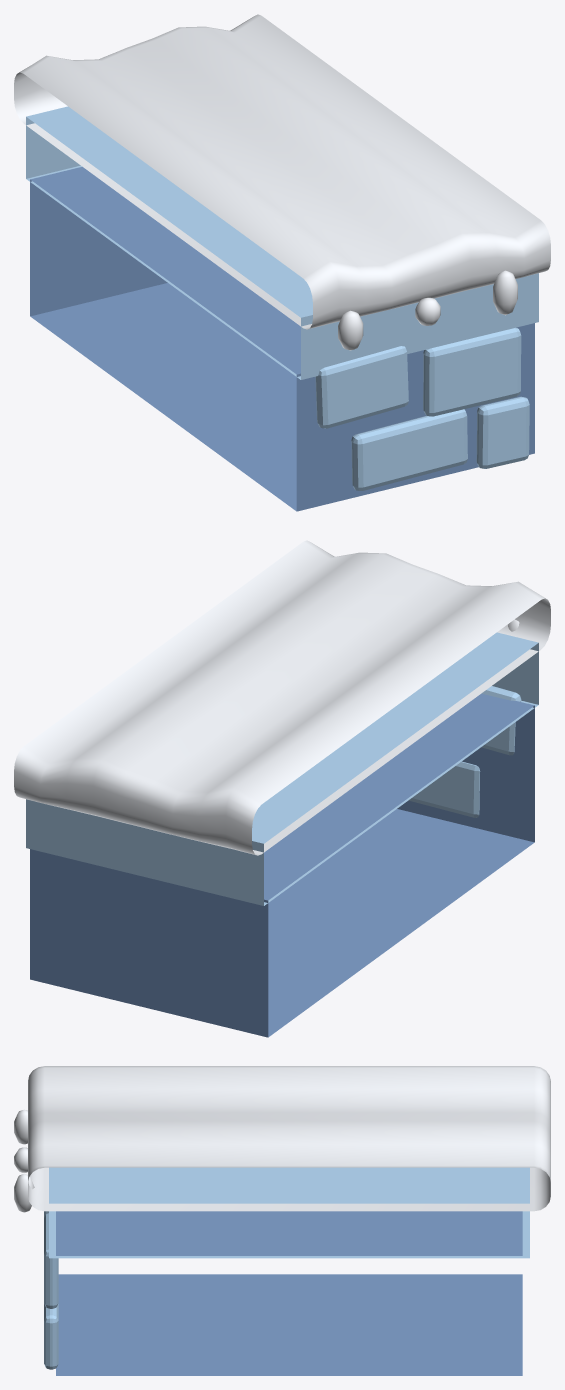
Rendered from plat_mid.glb.
3 renders of one model, top to bottom at view 1: azimuth 30°, elevation 25°; view 2: azimuth 150°, elevation 25°; view 3: azimuth 270°, elevation 25°, orthographic. The views are drawn at different scales.
Visible parts, largest first — view 1: plat_mid_mesh; view 2: plat_mid_mesh; view 3: plat_mid_mesh.
Part boxes in pixels (x1=…): plat_mid_mesh: x1=14, y1=14, x2=550, y2=511; plat_mid_mesh: x1=14, y1=540, x2=550, y2=1037; plat_mid_mesh: x1=14, y1=1066, x2=550, y2=1375.
Size of the model in its own units: 2 by 2 by 4.47.
